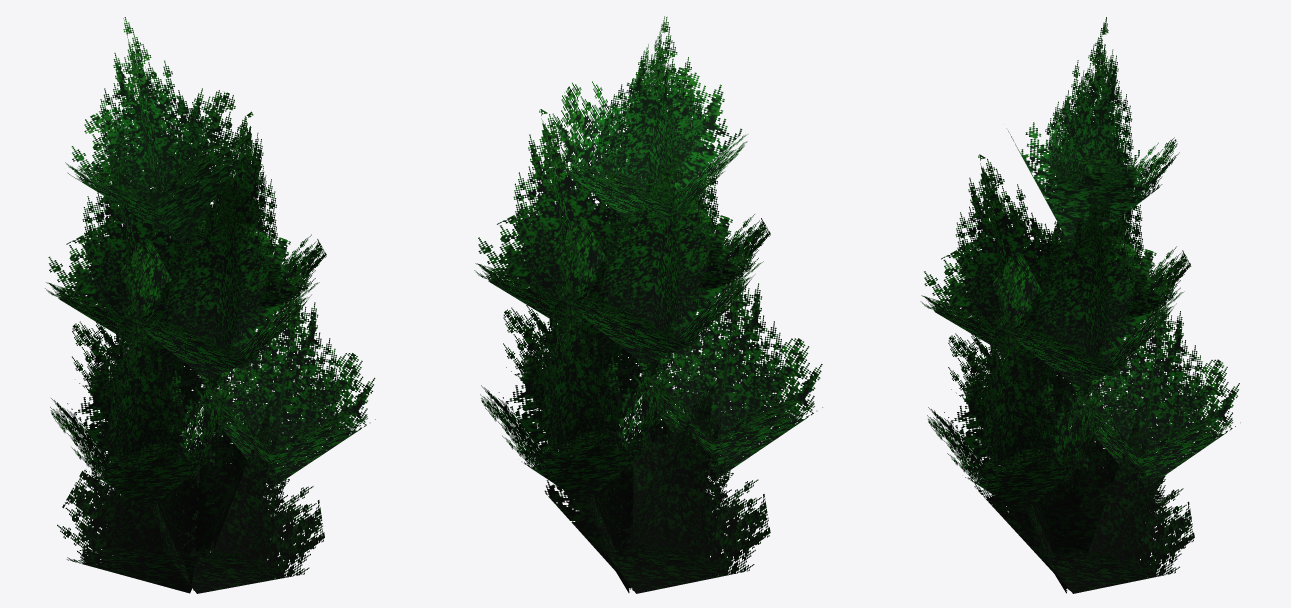
Rendered from jeneverbes_2.fbx.
3 views of the same model, side by side, from view 1: azimuth 30°, elevation 25°; view 2: azimuth 150°, elevation 25°; view 3: azimuth 270°, elevation 25° (orthographic). The views are drawn at different scales.
Parts seen in each view (by area): view 1: jeneverbes_2; view 2: jeneverbes_2; view 3: jeneverbes_2.
Boxes of the visible parts, <box> form: jeneverbes_2: <box>45,17,375,593</box>; jeneverbes_2: <box>474,16,822,593</box>; jeneverbes_2: <box>920,17,1240,593</box>.
Bounding box in the file's own units: 852 × 1438 × 906.
